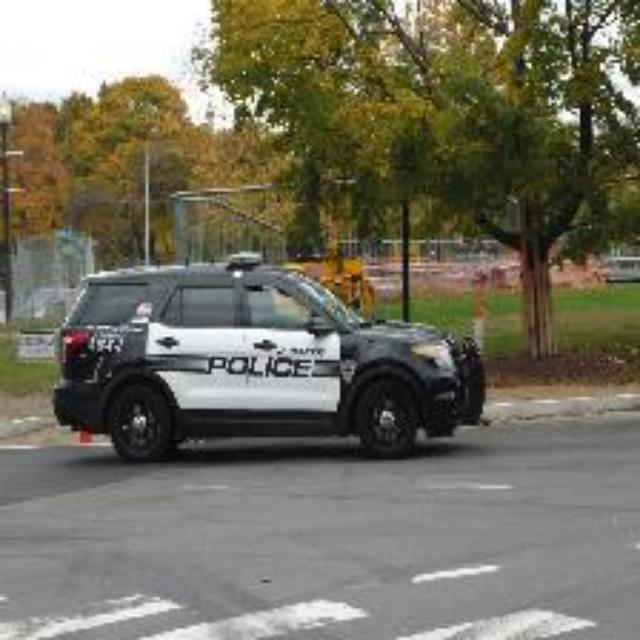emergency: (64, 258, 484, 464)
